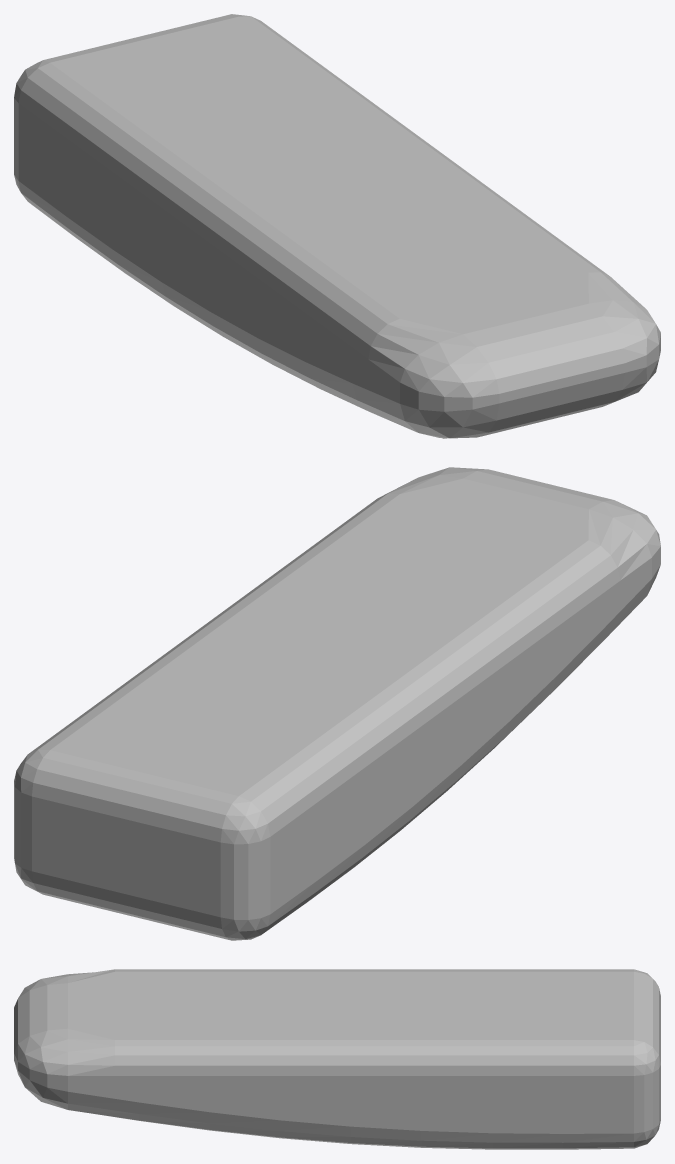
Rendered from RoadLight13.obj.
3 renders of one model, top to bottom at view 1: azimuth 30°, elevation 25°; view 2: azimuth 150°, elevation 25°; view 3: azimuth 270°, elevation 25°, orthographic. The views are drawn at different scales.
Bounding box in the file's own units: 1 × 0.564 × 3.
